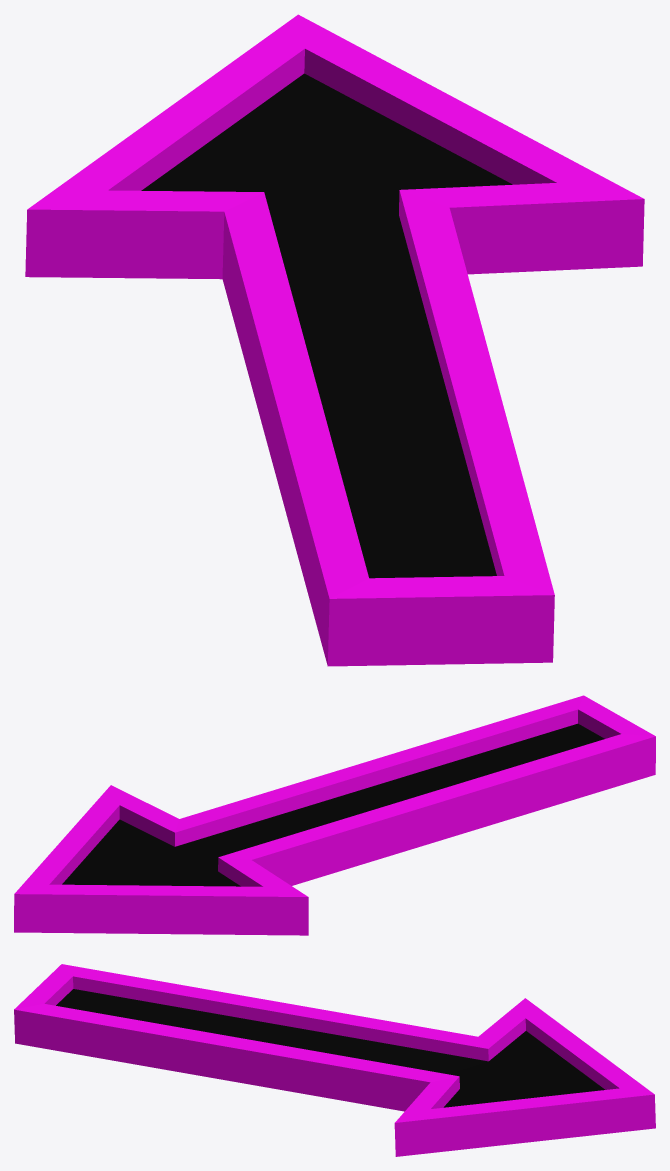
Rendered from Arrow.fbx.
The picture shows the model from 3 angles, top to bottom: view 1: azimuth 30°, elevation 25°; view 2: azimuth 150°, elevation 25°; view 3: azimuth 270°, elevation 25°; orthographic projection. The views are drawn at different scales.
Visible parts, largest first — view 1: polySurface88; view 2: polySurface88; view 3: polySurface88.
Boxes of the visible parts, <box> form: polySurface88: <box>25,14,644,666</box>; polySurface88: <box>14,695,655,935</box>; polySurface88: <box>14,964,655,1156</box>.
Size of what is drawn, in the model's own units: 0.6977 by 0.0883 by 1.2.
